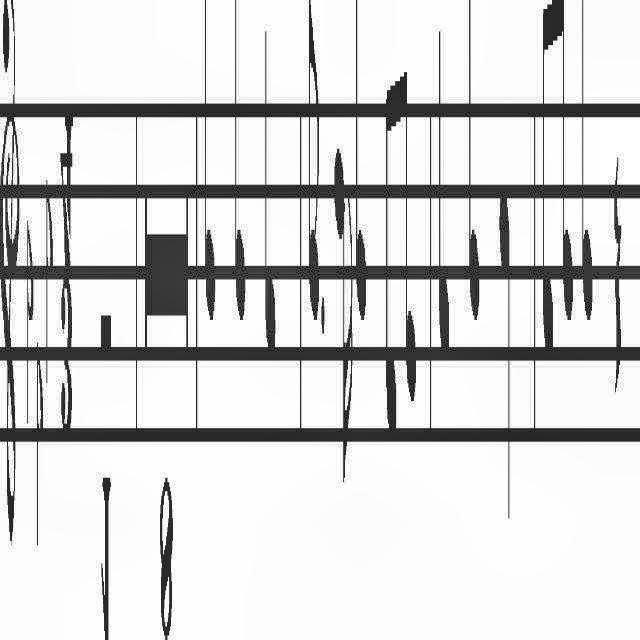Bass-clef: (0, 0, 20, 550)
Bemol: (26, 199, 34, 431), (36, 331, 44, 557), (45, 170, 53, 390)
Eighth-note: (398, 53, 416, 411), (554, 3, 574, 325), (541, 0, 555, 364), (384, 89, 396, 443), (307, 0, 318, 328)
Quarter-note: (263, 16, 277, 364), (353, 0, 367, 338), (203, 0, 217, 334), (438, 16, 450, 367), (498, 187, 510, 538), (234, 0, 246, 334), (468, 0, 480, 334), (581, 0, 593, 324)
Quarter-rest: (613, 151, 623, 389)
Sixteenth-note: (334, 141, 354, 489)
